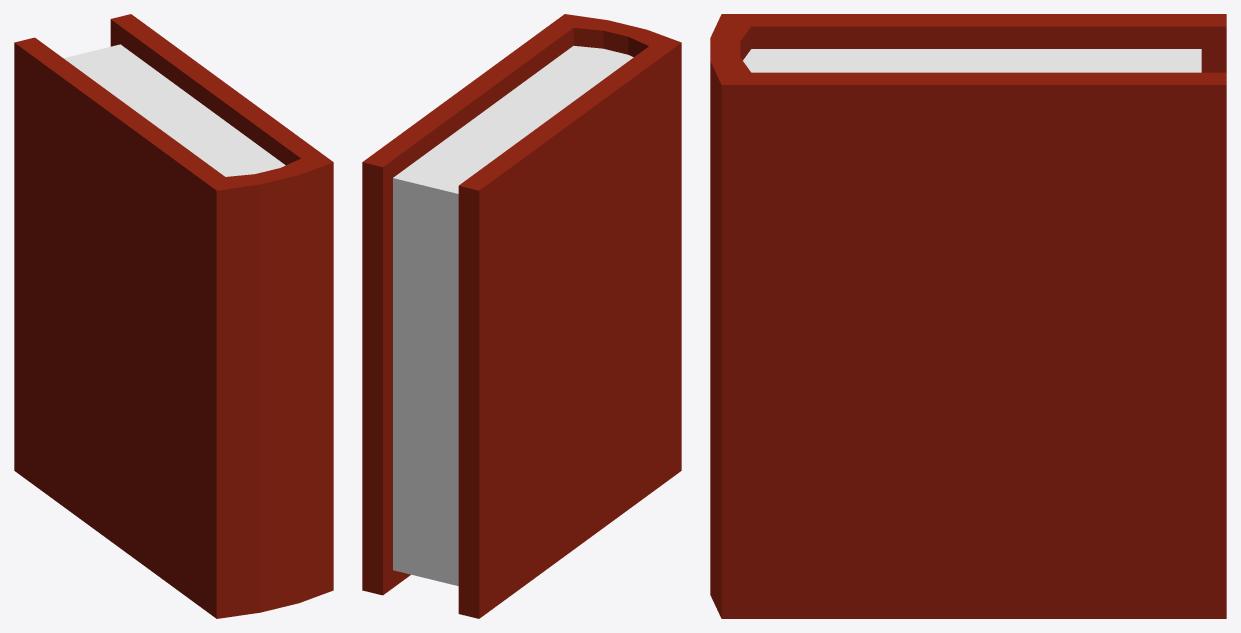
File: Buch_Rot.fbx
The picture shows the model from 3 angles, left to right: view 1: azimuth 30°, elevation 25°; view 2: azimuth 150°, elevation 25°; view 3: azimuth 270°, elevation 25°; orthographic projection. The views are drawn at different scales.
Visible parts, largest first — view 1: Cube; view 2: Cube; view 3: Cube.
Part boxes in pixels (x1=…): Cube: x1=14, y1=14, x2=333, y2=618; Cube: x1=362, y1=14, x2=681, y2=618; Cube: x1=710, y1=14, x2=1226, y2=618.
Size of the model in its own units: 40 by 140 by 123.
